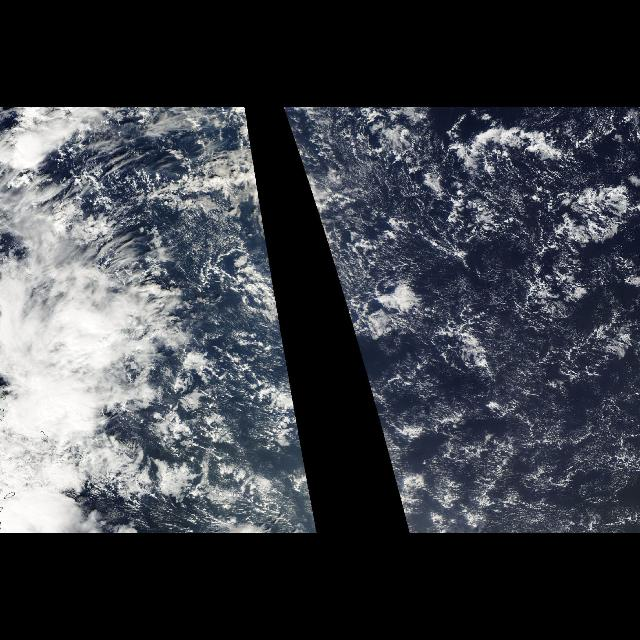Fish: (546, 180, 636, 244)
Gravel: (301, 110, 639, 530), (301, 442, 317, 530)
Sugar: (376, 317, 638, 533)
